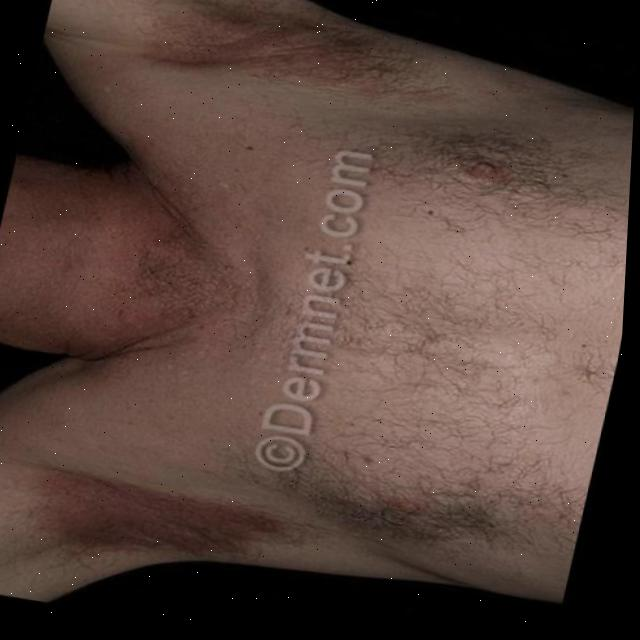Eczema: (11, 155, 235, 404), (11, 443, 300, 586), (149, 0, 390, 118)
